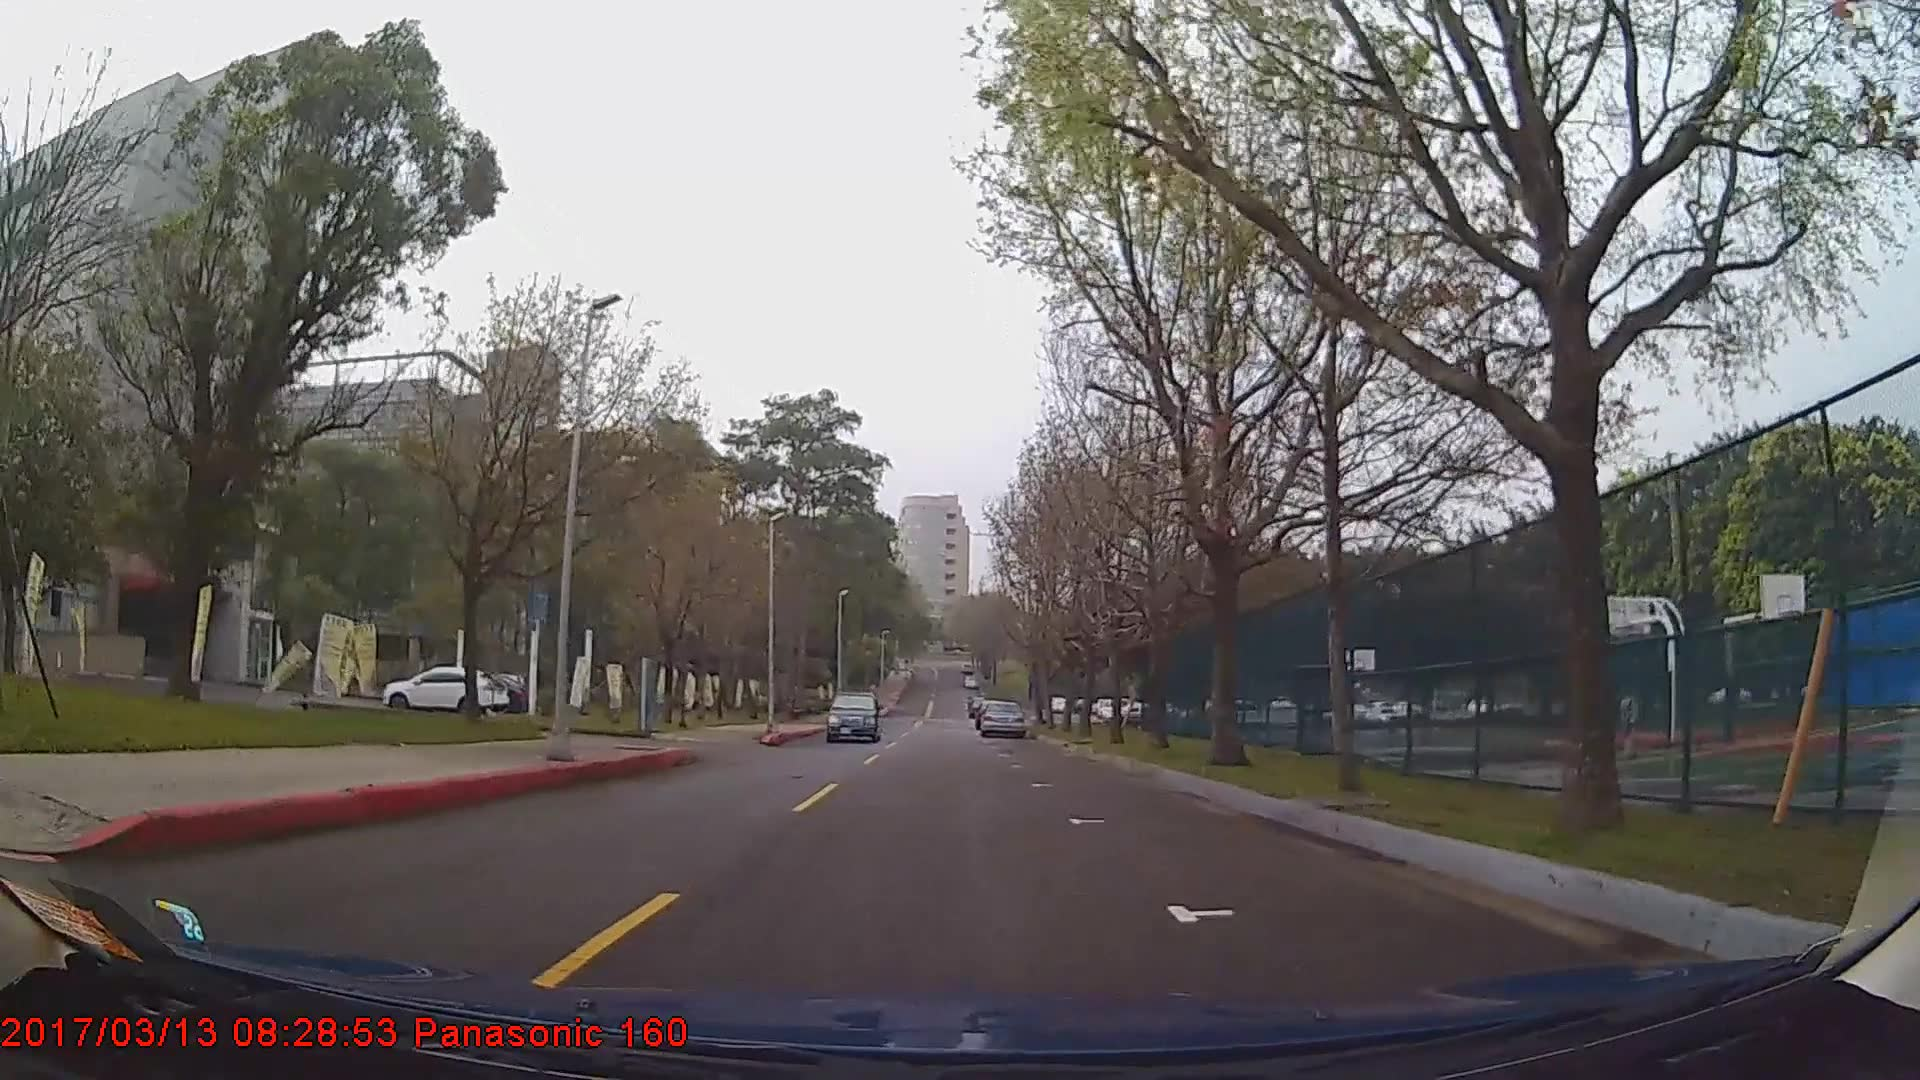vehicle: (378, 663, 506, 717), (825, 691, 880, 742), (977, 698, 1023, 738)
